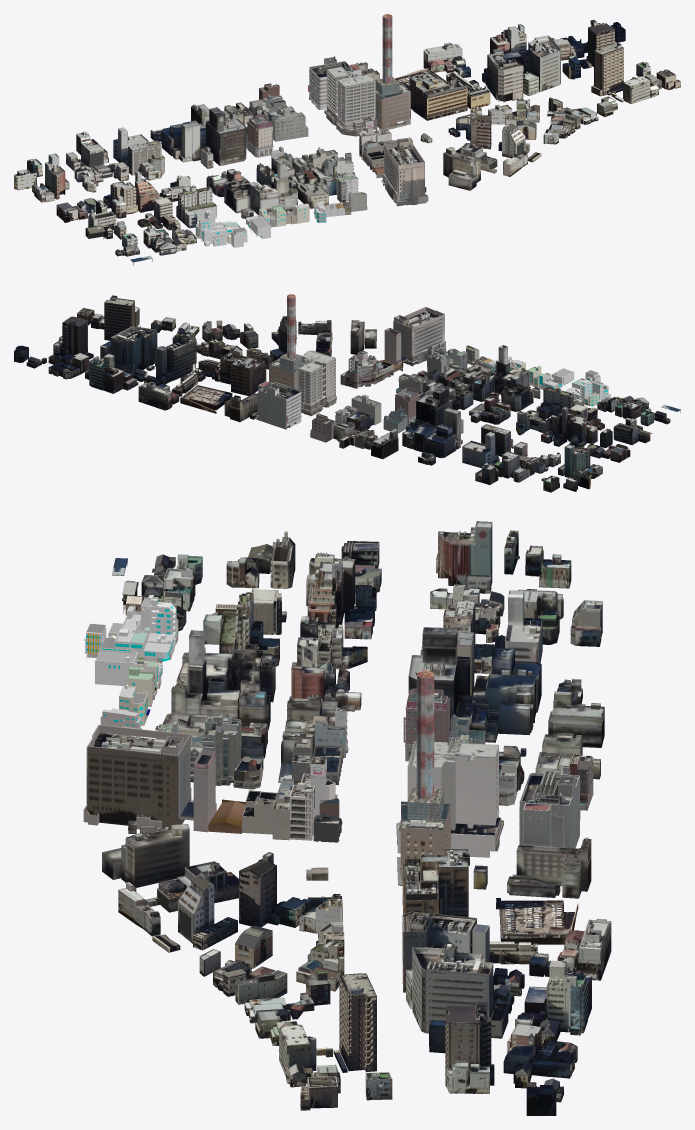
File: 2023-lod3-station-6-1-packed.glb
3 views of the same model, one above another, from view 1: azimuth 30°, elevation 25°; view 2: azimuth 150°, elevation 25°; view 3: azimuth 270°, elevation 25° (orthographic). The views are drawn at different scales.
Bounding box in the file's own units: 610 × 105 × 246.
Materials: 15 (12 with a texture image).
